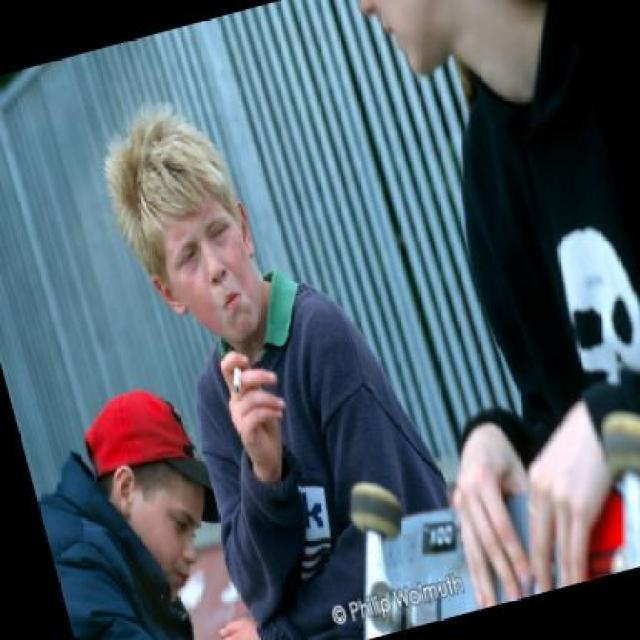smoke: (226, 360, 247, 397)
